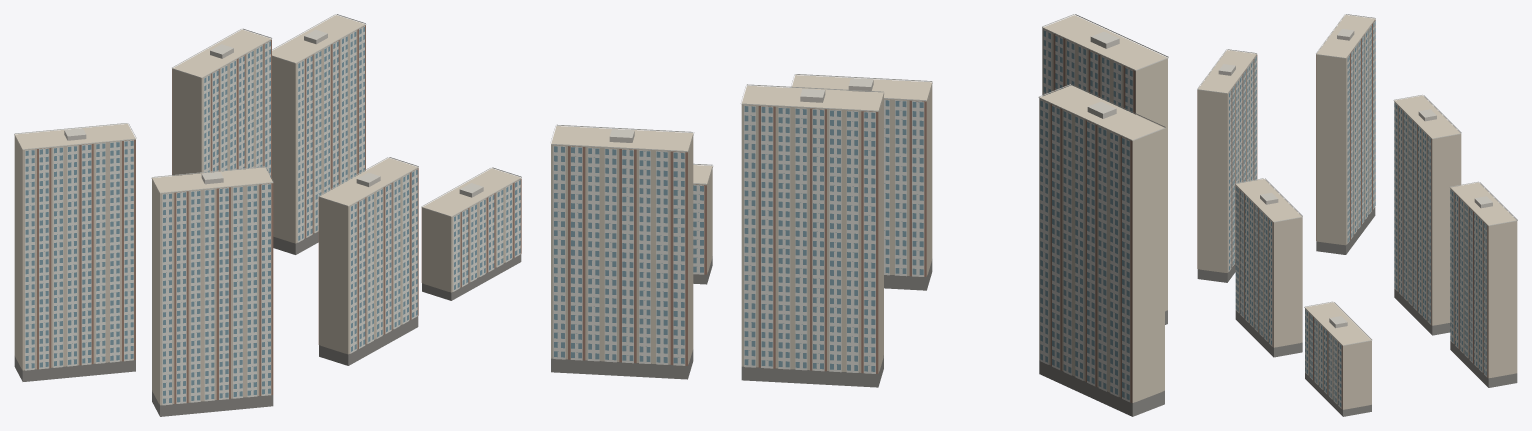
The model's file is representative-a10025562.glb.
3 views of the same model, side by side, from view 1: azimuth 30°, elevation 25°; view 2: azimuth 150°, elevation 25°; view 3: azimuth 270°, elevation 25° (orthographic). The views are drawn at different scales.
Visible parts, largest first — view 1: A10025562_trim001, A10025562_wall001, A10025562_glass001, A10025562_accent001, A10025562_base001, A10025562_roof001; view 2: A10025562_trim001, A10025562_wall001, A10025562_glass001, A10025562_accent001, A10025562_base001, A10025562_roof001; view 3: A10025562_wall001, A10025562_trim001, A10025562_glass001, A10025562_accent001, A10025562_base001, A10025562_roof001.
Boxes of the visible parts, x1=… form: A10025562_trim001: x1=14, y1=14, x2=521, y2=405; A10025562_wall001: x1=14, y1=15, x2=520, y2=405; A10025562_glass001: x1=25, y1=27, x2=520, y2=403; A10025562_accent001: x1=37, y1=25, x2=521, y2=404; A10025562_base001: x1=14, y1=231, x2=521, y2=416; A10025562_roof001: x1=64, y1=29, x2=483, y2=197; A10025562_trim001: x1=550, y1=14, x2=1168, y2=402; A10025562_wall001: x1=551, y1=15, x2=1167, y2=402; A10025562_glass001: x1=554, y1=30, x2=1132, y2=399; A10025562_accent001: x1=568, y1=34, x2=1135, y2=402; A10025562_base001: x1=551, y1=256, x2=1167, y2=416; A10025562_roof001: x1=609, y1=31, x2=1119, y2=142; A10025562_wall001: x1=1197, y1=15, x2=1517, y2=409; A10025562_trim001: x1=1197, y1=14, x2=1517, y2=408; A10025562_glass001: x1=1229, y1=21, x2=1486, y2=406; A10025562_accent001: x1=1197, y1=20, x2=1488, y2=409; A10025562_base001: x1=1197, y1=207, x2=1517, y2=416; A10025562_roof001: x1=1218, y1=29, x2=1492, y2=328.
Size of the model in its own units: 179 by 81.5 by 118.
